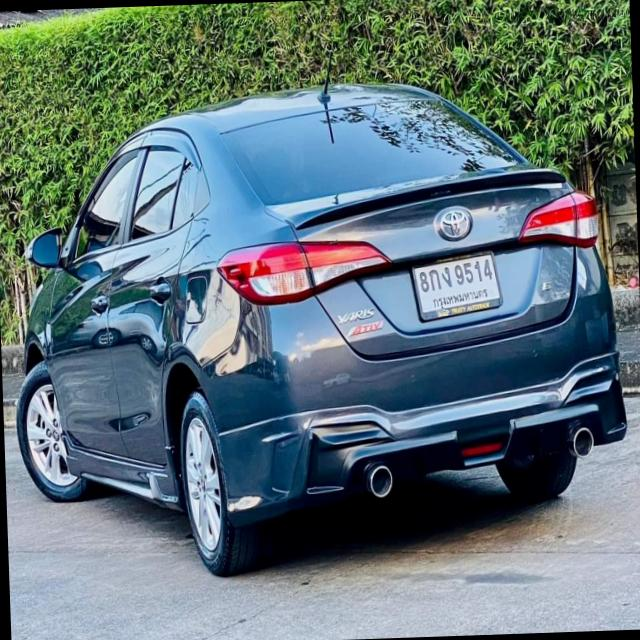license_plate: (408, 245, 506, 328)
